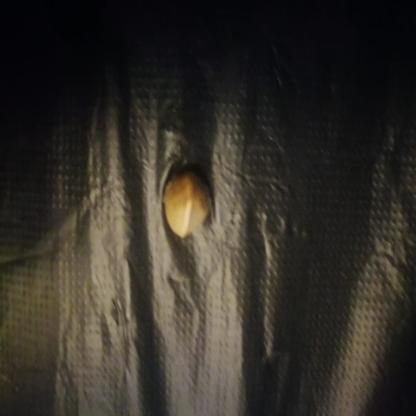pistachio: (164, 168, 214, 234)
